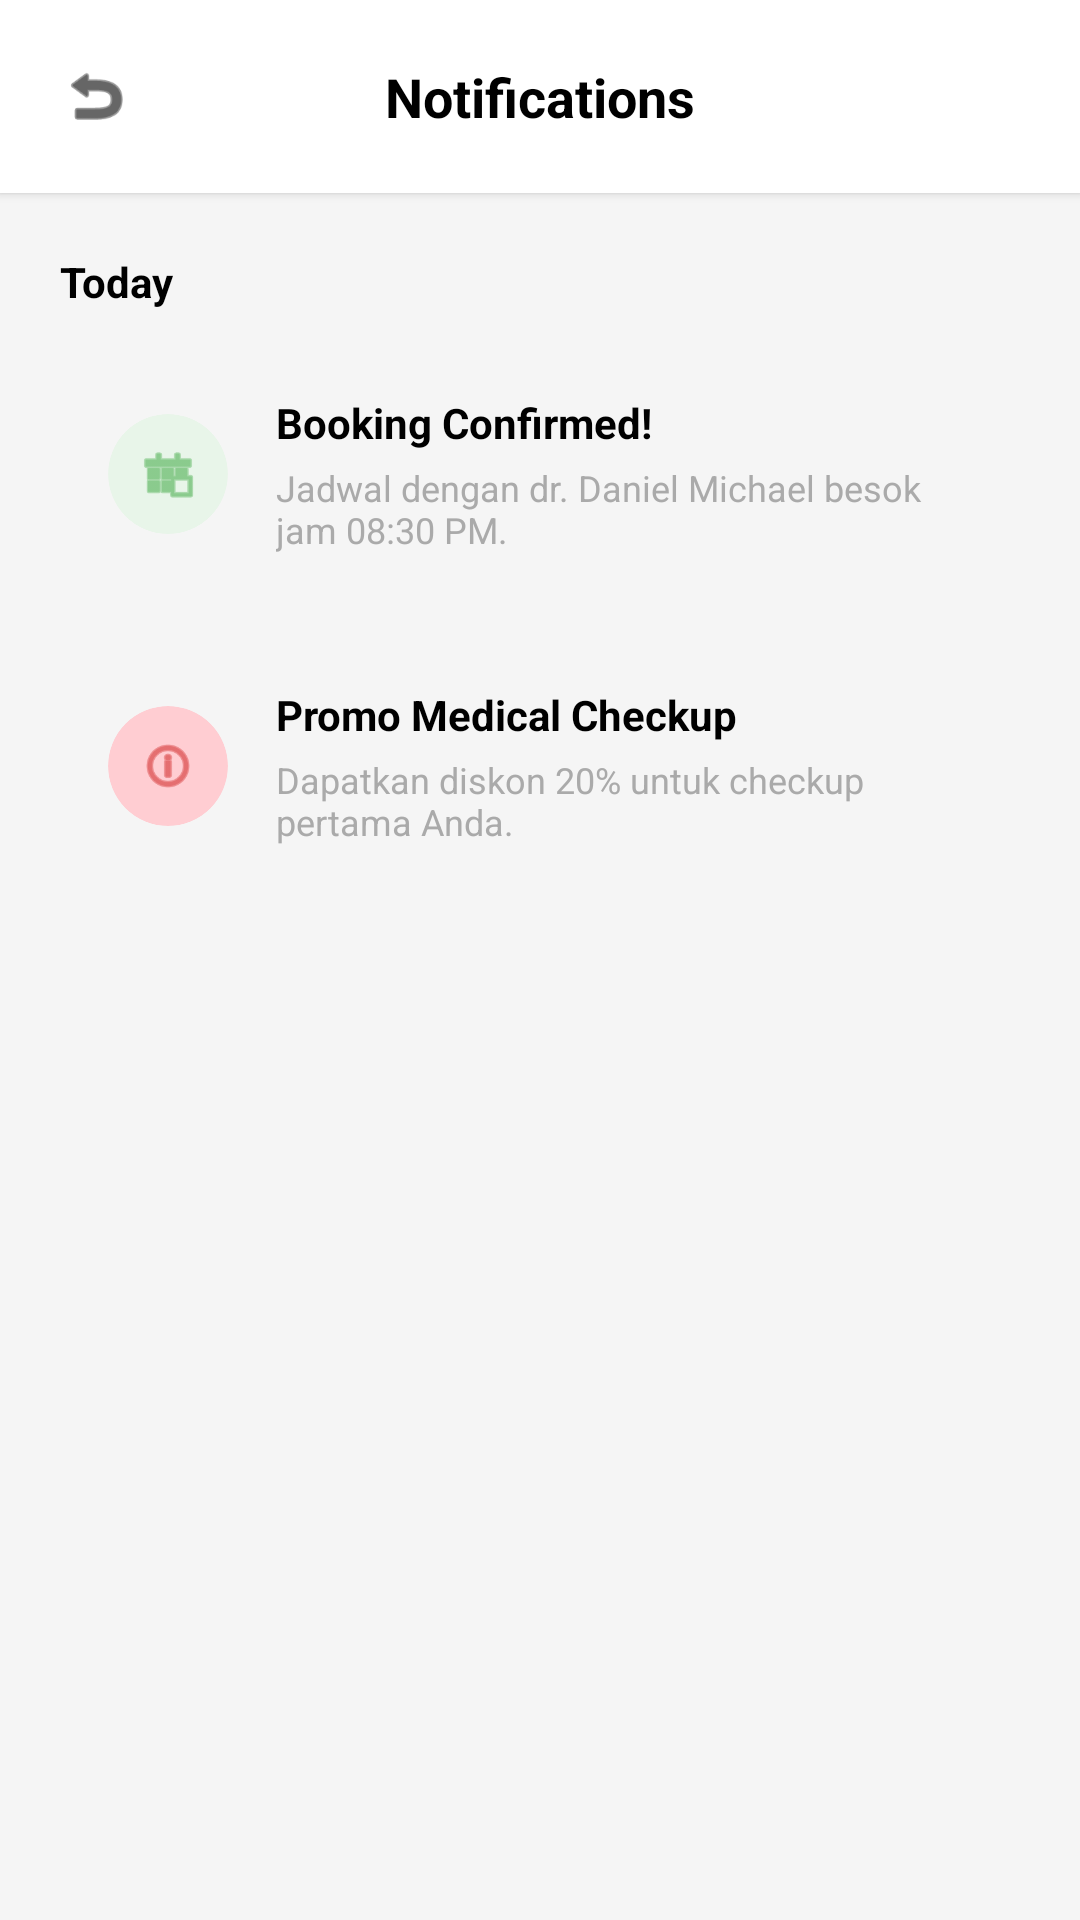

Screen size 1080px×1920px. Icon name, then its center in pixels as [x,y]:
info details: [168,766]
revert: [97,96]
